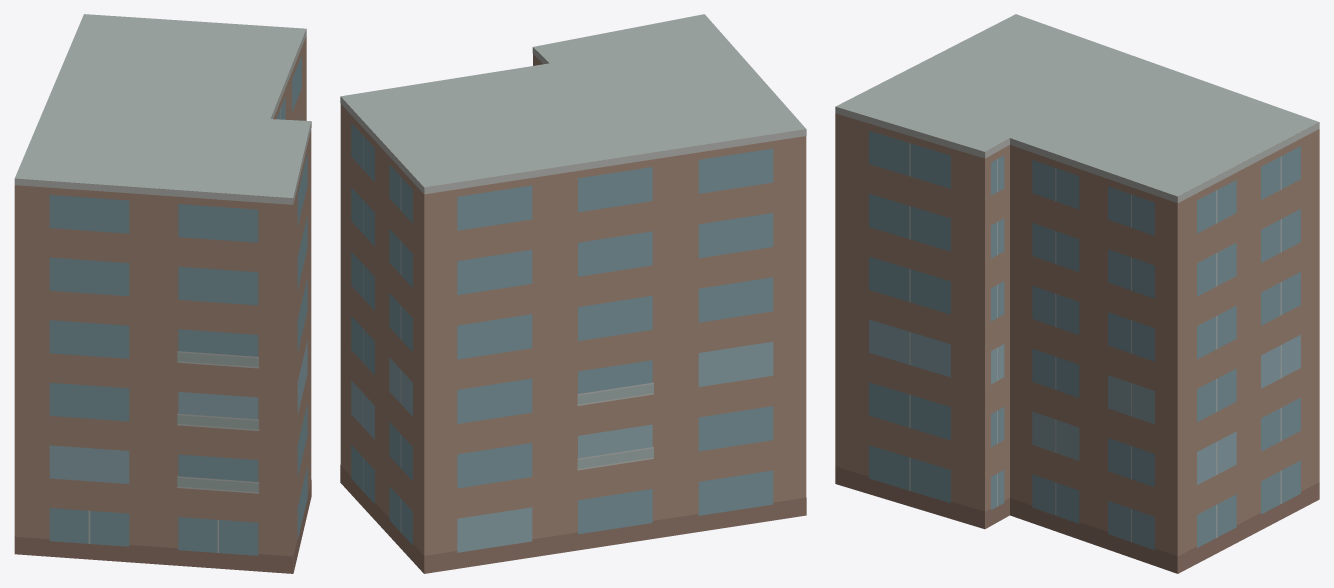
Rendered from survey-upis-32774948.glb.
3 views of the same model, side by side, from view 1: azimuth 30°, elevation 25°; view 2: azimuth 150°, elevation 25°; view 3: azimuth 270°, elevation 25° (orthographic). The views are drawn at different scales.
Visible parts, largest first — view 1: survey-upis-32774948.tmp; view 2: survey-upis-32774948.tmp; view 3: survey-upis-32774948.tmp.
Part boxes in pixels (left/top/right/bottom): survey-upis-32774948.tmp: left=14, top=14, right=311, bottom=573; survey-upis-32774948.tmp: left=340, top=14, right=806, bottom=573; survey-upis-32774948.tmp: left=835, top=14, right=1319, bottom=573.
Bounding box in the file's own units: 14.23 × 13.7 × 15.94.
